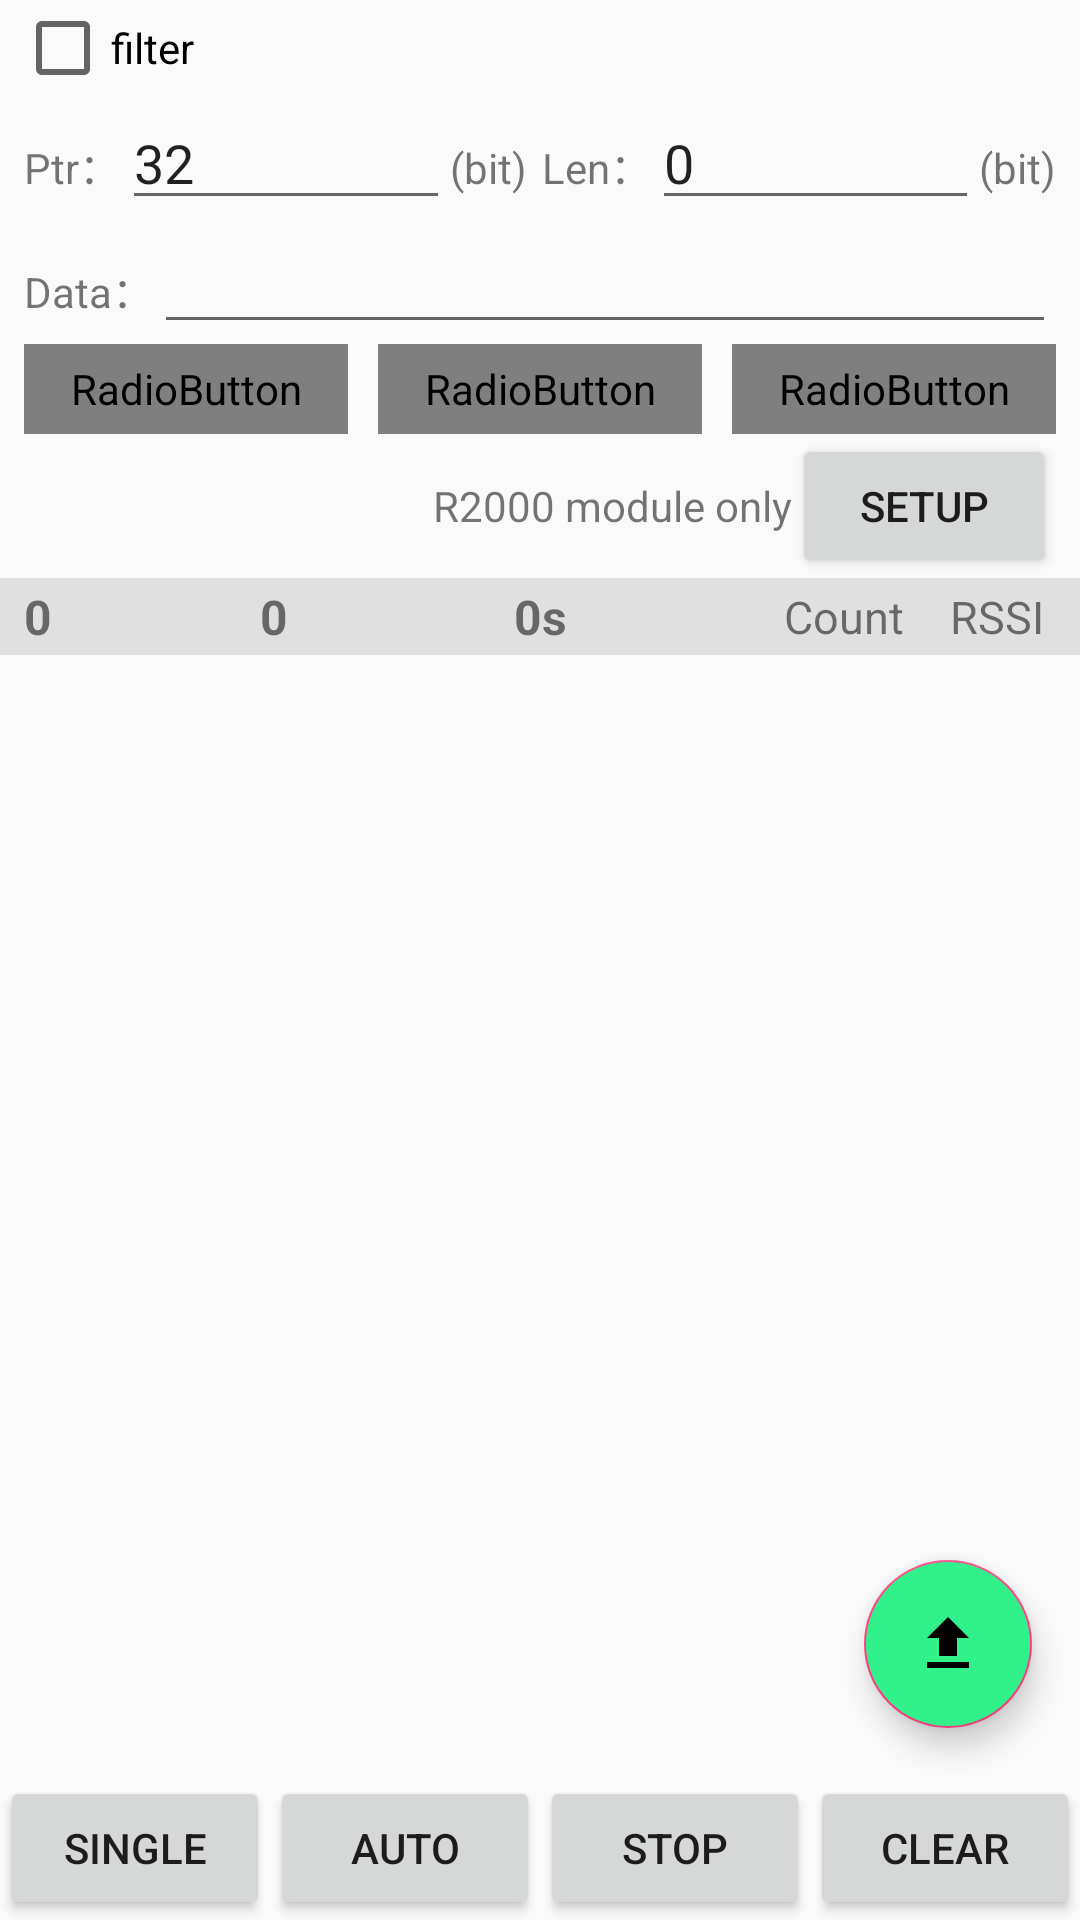

Named icons in this screenshot (1080 x 1920) and their centers, (x,y):
upload: (948,1644)
